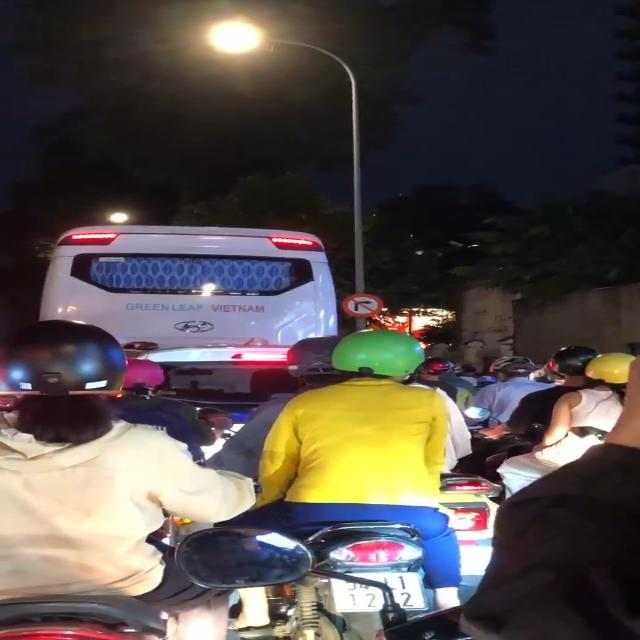Bien bao cam re phai: (341, 290, 388, 319)
